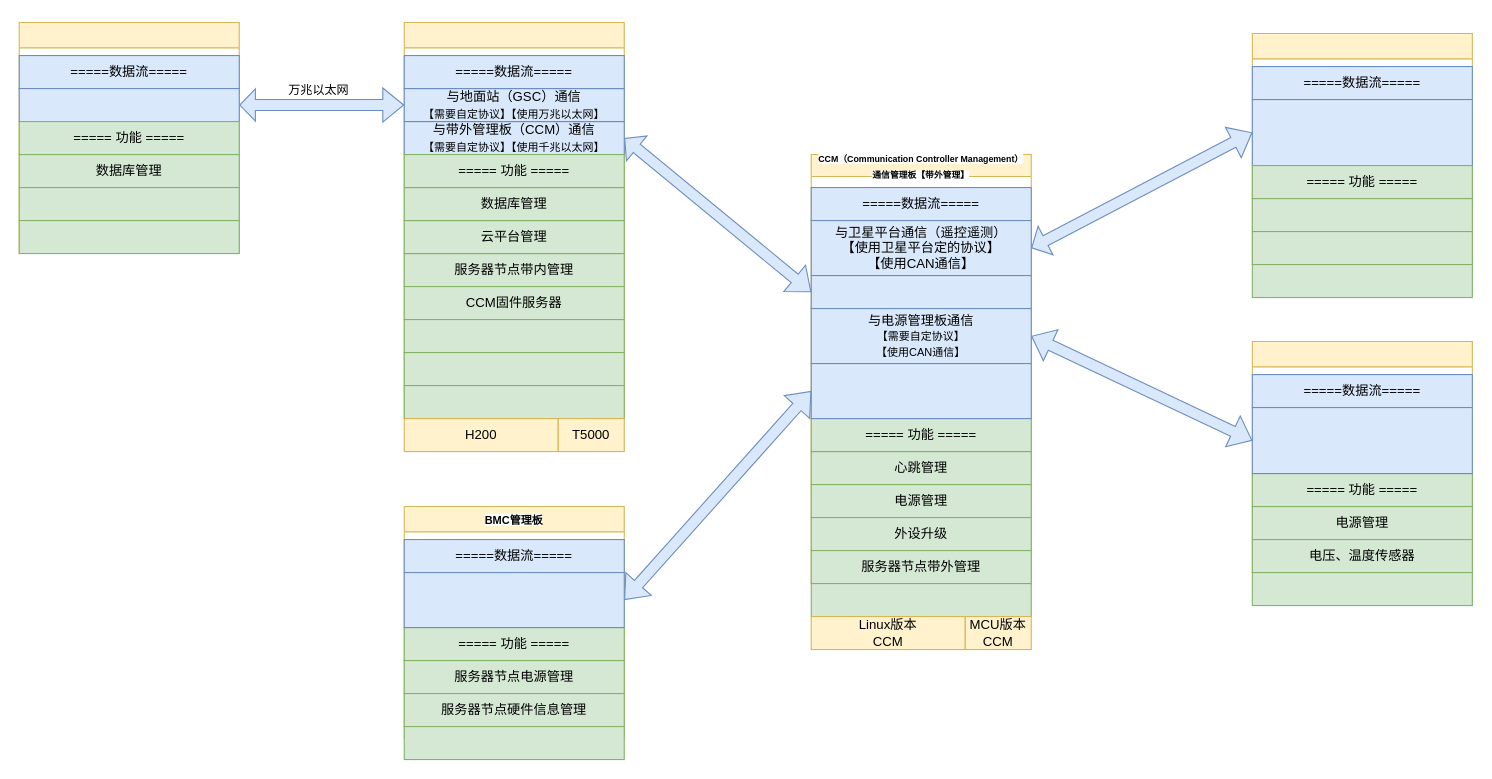
Image size: 1492x779. Some labels were removed from this diagram. The box of each missing label's shape, as (x1, y1, x2, y2) in pixels:
GSC（Ground Station Controller） 地面管理站: (18, 21, 239, 254)
PMC（Payload Management Controller） 载荷管理器【带内管理】: (403, 21, 624, 419)
satellite platform 卫星平台: (1251, 32, 1472, 265)
与BMC管理板通信 【使用Redfish和IPMI协议】 【使用千兆以太网】: (810, 362, 1031, 419)
与带内管理板（PMC）通信 【需要自定协议】 【使用万兆以太网】: (18, 87, 239, 122)
与带内管理板（PMC）通信 【需要自定协议】 【使用千兆以太网】: (810, 274, 1031, 309)
与带外管理板（CCM）通信 【 使用卫星平台 定的协议 】 【使用CAN通信】: (1251, 98, 1472, 166)
与带外管理板（CCM）通信 【使用Redfish和IPMI协议】 【使用千兆以太网】: (403, 571, 624, 628)
与带外管理板（CCM）通信 【需要自定协议】 【使用CAN通信】: (1251, 406, 1472, 474)
电源管理板: (1251, 340, 1472, 573)
